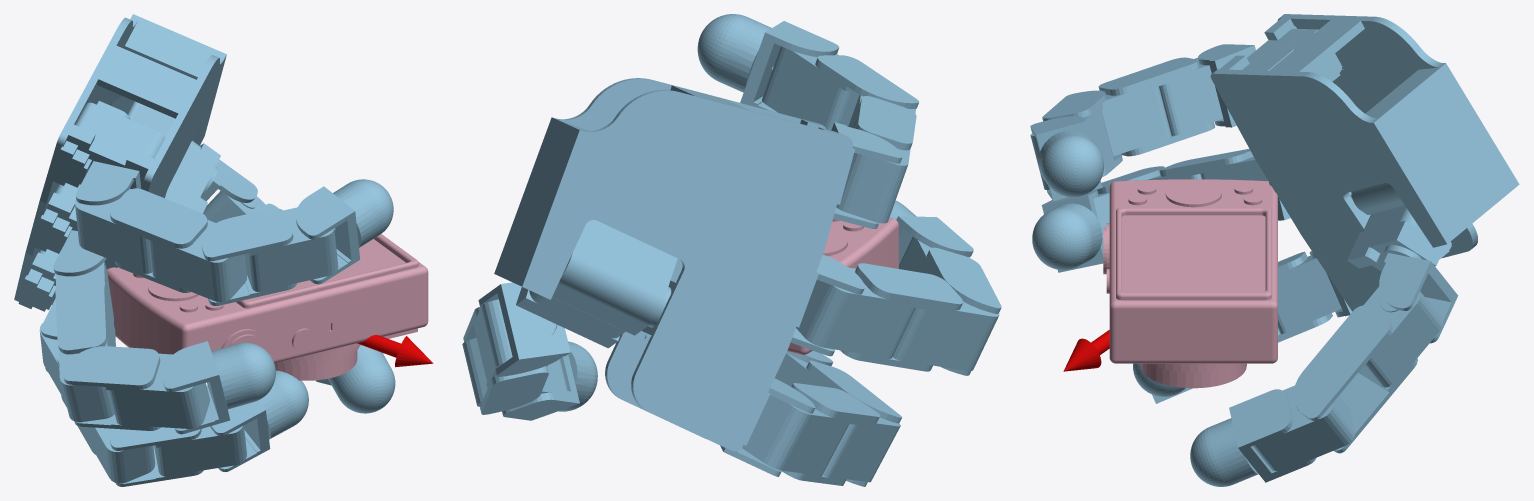
The picture shows the model from 3 angles, left to right: view 1: azimuth 30°, elevation 25°; view 2: azimuth 150°, elevation 25°; view 3: azimuth 270°, elevation 25°; orthographic projection. The views are drawn at different scales.
Parts seen in each view (by area): view 1: world, camera.stl; view 2: world, camera.stl; view 3: world, camera.stl.
Part boxes in pixels (bbox=[...]): world: bbox=[14, 14, 433, 486]; camera.stl: bbox=[107, 234, 428, 380]; world: bbox=[462, 14, 1001, 486]; camera.stl: bbox=[787, 217, 898, 354]; world: bbox=[1030, 14, 1519, 486]; camera.stl: bbox=[1103, 179, 1277, 388].
Size of the model in its own units: 0.1723 by 0.1661 by 0.188.
